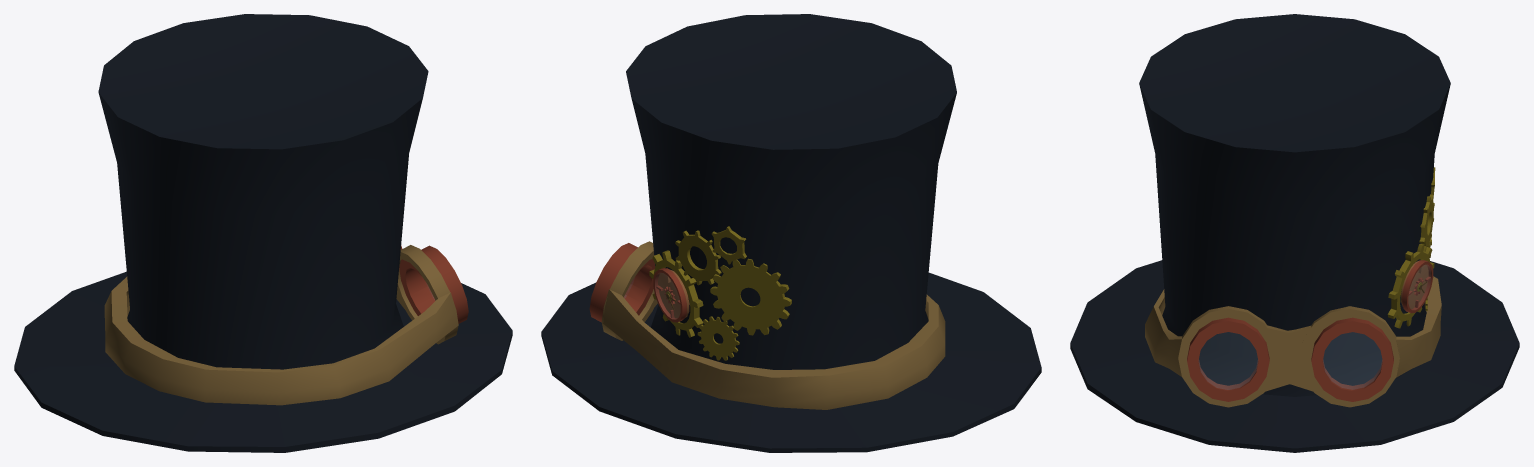
Rendered from XYZHoumework_Specifying forms Hat.fbx.
3 views of the same model, side by side, from view 1: azimuth 30°, elevation 25°; view 2: azimuth 150°, elevation 25°; view 3: azimuth 270°, elevation 25° (orthographic). The views are drawn at different scales.
Visible parts, largest first — view 1: pCylinder5, pPipe4, polySurface19, polySurface20; view 2: pCylinder5, pPipe4, pGear2, polySurface24, polySurface22, pGear1, pGear5, pGear3, polySurface5, pGear4, polySurface10; view 3: pCylinder5, pPipe4, polySurface24, polySurface19, polySurface18, polySurface23, polySurface20, polySurface22, polySurface21, pGear5, polySurface5, pGear1 (+1 smaller).
Boxes of the visible parts, x1,y1,x2,y2 form: pCylinder5: (14, 14, 512, 452); pPipe4: (104, 276, 458, 405); polySurface19: (399, 245, 468, 323); polySurface20: (397, 245, 458, 344); pCylinder5: (541, 14, 1041, 452); pPipe4: (602, 289, 945, 409); pGear2: (710, 258, 791, 335); polySurface24: (589, 243, 655, 322); polySurface22: (601, 241, 657, 340); pGear1: (675, 230, 721, 285); pGear5: (649, 250, 703, 337); pGear3: (697, 316, 739, 360); polySurface5: (653, 268, 686, 322); pGear4: (711, 226, 746, 264); polySurface10: (658, 269, 689, 318); pCylinder5: (1070, 14, 1519, 452); pPipe4: (1145, 276, 1441, 377); polySurface24: (1311, 317, 1393, 401); polySurface19: (1187, 317, 1269, 401); polySurface18: (1199, 332, 1257, 389); polySurface23: (1323, 332, 1382, 389); polySurface20: (1178, 306, 1278, 407); polySurface22: (1299, 306, 1399, 407); polySurface21: (1265, 325, 1312, 391); pGear5: (1387, 243, 1434, 328); polySurface5: (1402, 260, 1433, 313); pGear1: (1419, 194, 1434, 251).
Size of the model in its own units: 9.88 by 5.94 by 8.88.
